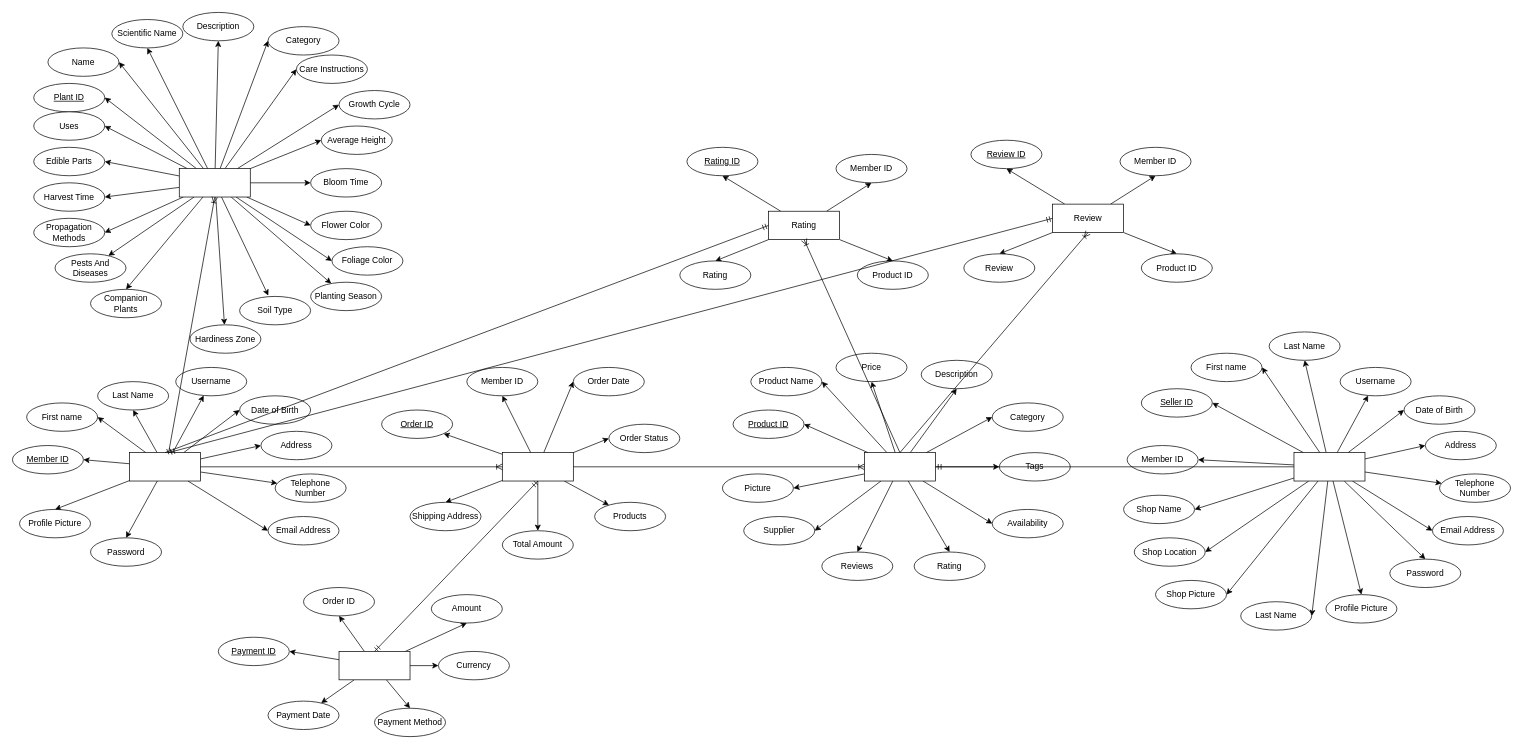
The diagram is 1523 pixels wide and 749 high, and some of its shapes have lost their labels. The shapes that lost their labels are listed below. From the top down, each one's centre as x and y in pixels, then its label:
At pixel 214 182: "Plant".
At pixel 165 466: "Member".
At pixel 537 466: "Order".
At pixel 899 466: "Product".
At pixel 1329 466: "Seller".
At pixel 374 665: "Payment".
